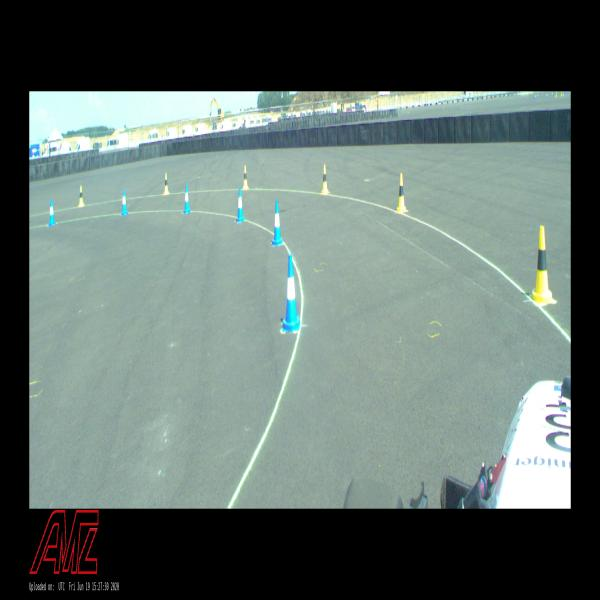blue_cone: (283, 255, 300, 331), (272, 200, 283, 245), (236, 187, 244, 222), (183, 184, 190, 213), (49, 199, 56, 226), (121, 189, 128, 215), (546, 92, 548, 98)
yellow_cone: (530, 226, 554, 304), (397, 173, 407, 212), (322, 165, 329, 194), (243, 166, 249, 190), (78, 185, 84, 206), (164, 174, 169, 194)
